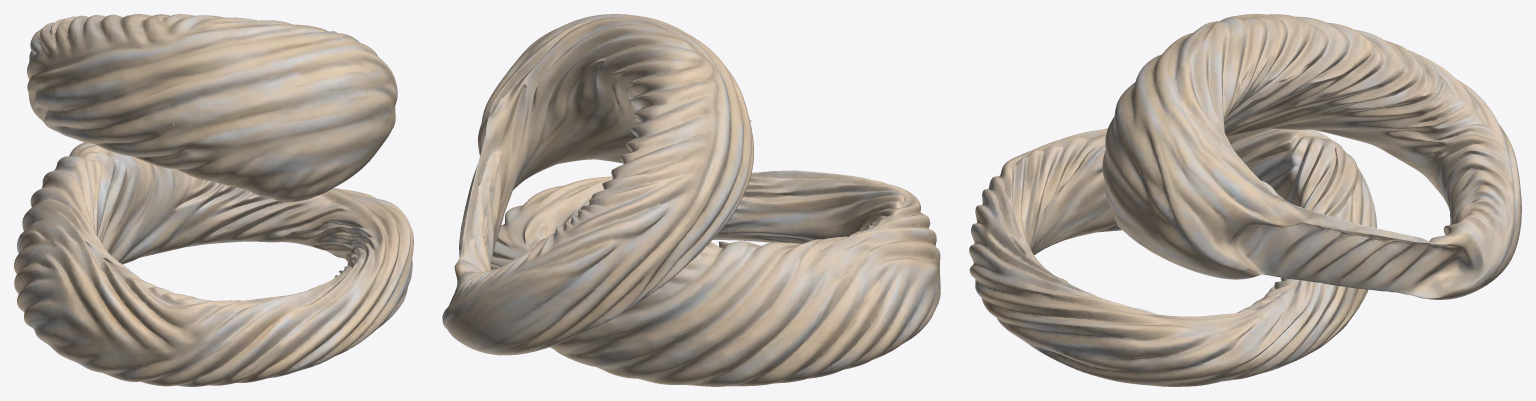
File: jewel_roperings.glb
The picture shows the model from 3 angles, left to right: view 1: azimuth 30°, elevation 25°; view 2: azimuth 150°, elevation 25°; view 3: azimuth 270°, elevation 25°; orthographic projection. The views are drawn at different scales.
Visible parts, largest first — view 1: geometry_0; view 2: geometry_0; view 3: geometry_0.
Part boxes in pixels (box(x1,y1,x2,y2)): geometry_0: box(14, 14, 413, 386); geometry_0: box(442, 14, 940, 386); geometry_0: box(969, 14, 1521, 386).
Bounding box in the file's own units: 0.7202 × 0.4969 × 0.8749.
Materials: 1 (1 with a texture image).
